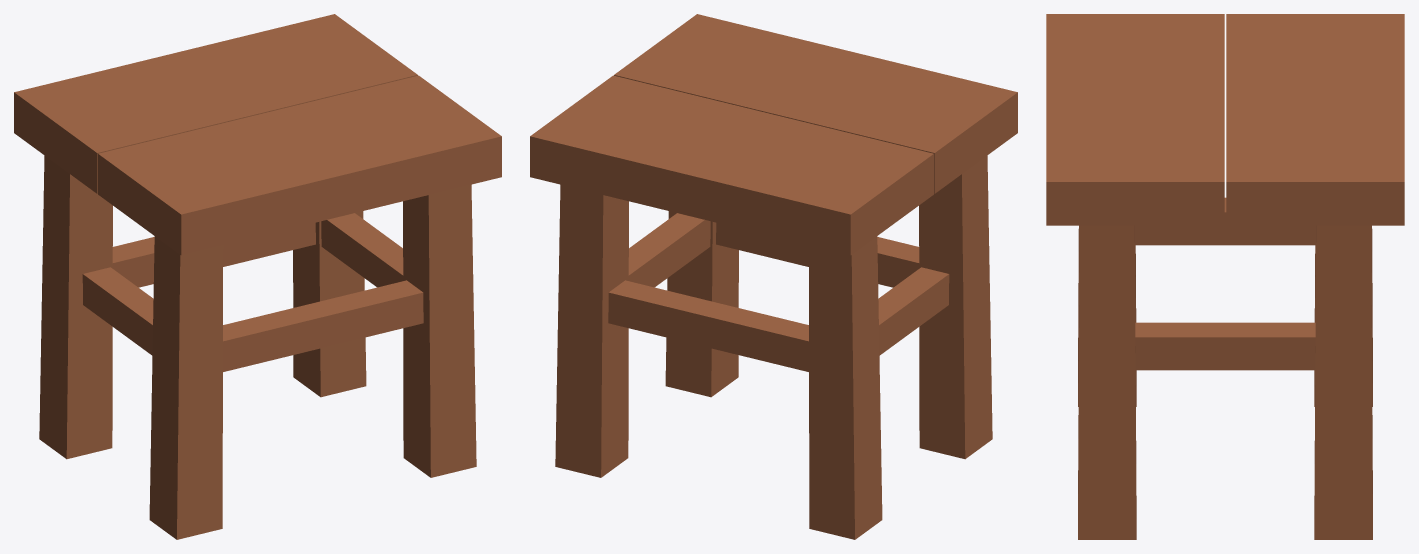
Rendered from table_long_001.obj.
3 renders of one model, left to right at view 1: azimuth 30°, elevation 25°; view 2: azimuth 150°, elevation 25°; view 3: azimuth 270°, elevation 25°, orthographic. The views are drawn at different scales.
Visible parts, largest first — view 1: table_long.001; view 2: table_long.001; view 3: table_long.001.
Part boxes in pixels (x1,y1,x2,y2): table_long.001: [14, 14, 501, 539]; table_long.001: [530, 14, 1017, 539]; table_long.001: [1046, 14, 1404, 539].
Size of the model in its own units: 0.2951 by 0.2979 by 0.2663.
